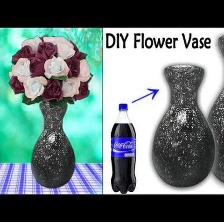bottle: (106, 97, 138, 193)
